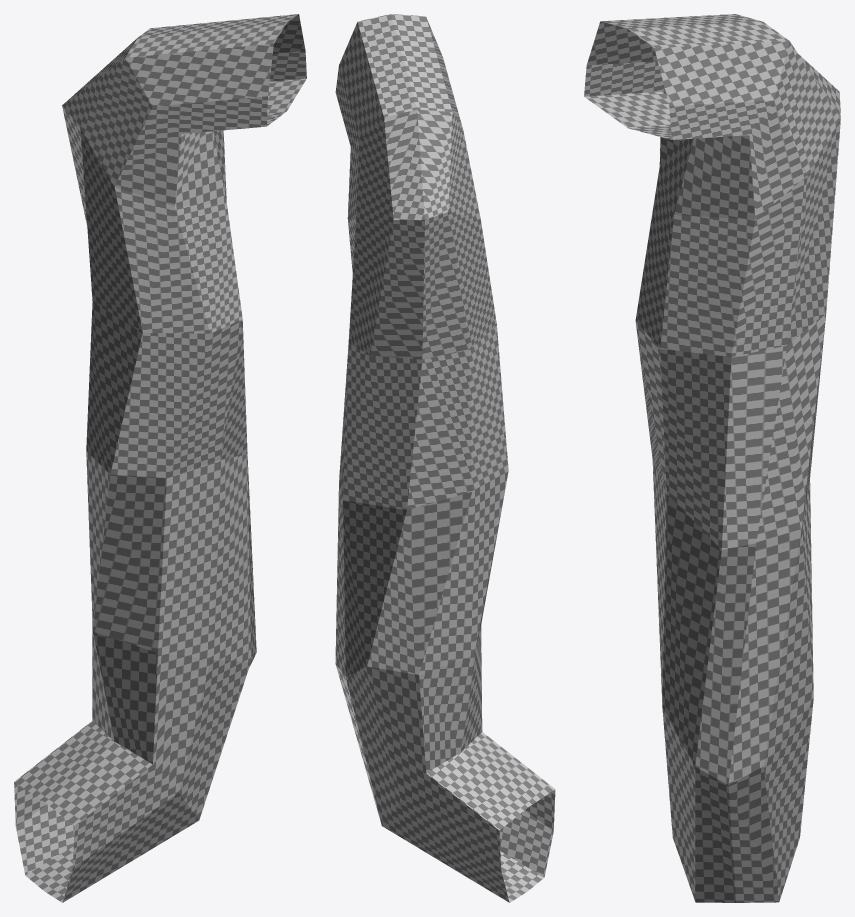
File: prv1o-8.obj
3 views of the same model, side by side, from view 1: azimuth 30°, elevation 25°; view 2: azimuth 150°, elevation 25°; view 3: azimuth 270°, elevation 25° (orthographic). The views are drawn at different scales.
Visible parts, largest first — view 1: Cube.007; view 2: Cube.007; view 3: Cube.007.
Part boxes in pixels (x1=…): Cube.007: x1=14, y1=14, x2=306, y2=902; Cube.007: x1=335, y1=14, x2=555, y2=902; Cube.007: x1=584, y1=14, x2=840, y2=902.
Size of the model in its own units: 49.9 by 174 by 42.2.
